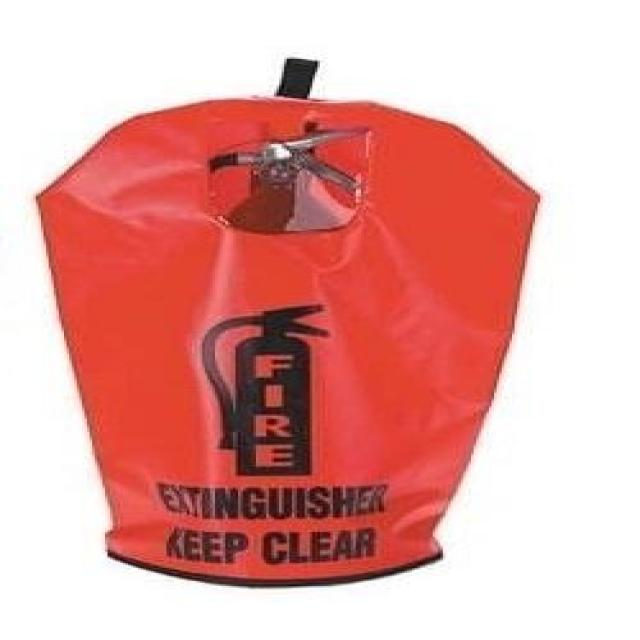fire_extinguisher: (108, 116, 450, 584)
